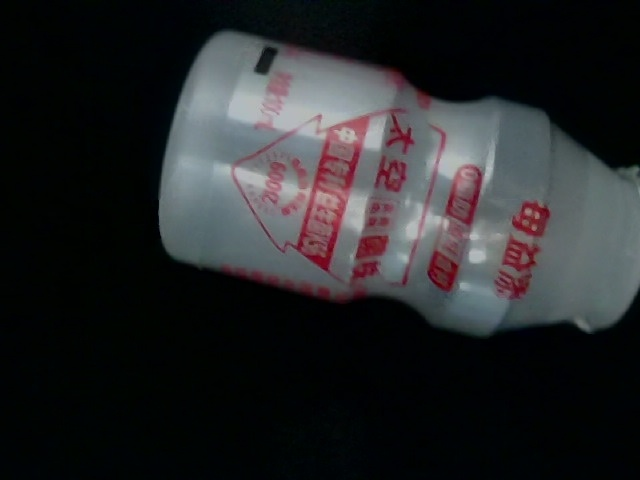CYLJ: (308, 1, 635, 169)
